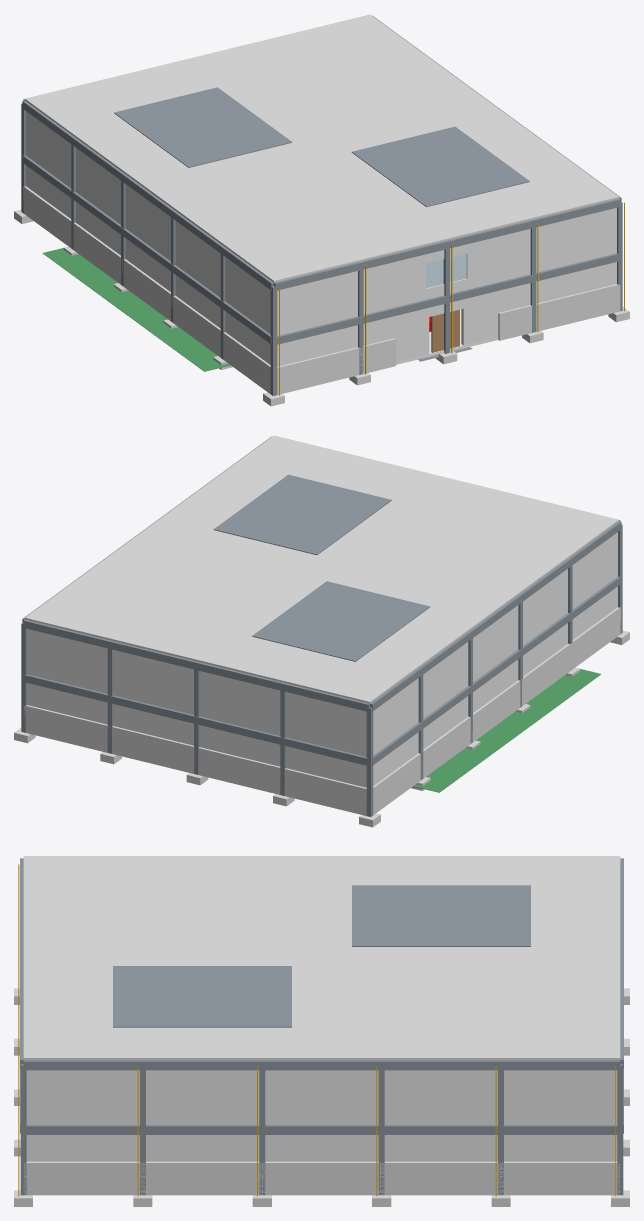
Rendered from generated_building_32.glb.
3 views of the same model, one above another, from view 1: azimuth 30°, elevation 25°; view 2: azimuth 150°, elevation 25°; view 3: azimuth 270°, elevation 25° (orthographic). The views are drawn at different scales.
Parts seen in each view (by area): view 1: architectural, structural, landscape, windows, electrical, doors; view 2: architectural, landscape, structural; view 3: architectural, structural, landscape, electrical.
Boxes of the visible parts, x1,y1,x2,y2 form: architectural: (25, 14, 618, 366); structural: (14, 15, 629, 406); landscape: (22, 186, 620, 394); windows: (426, 254, 466, 288); electrical: (279, 202, 624, 395); doors: (431, 309, 459, 352); architectural: (25, 435, 618, 787); landscape: (23, 607, 621, 815); structural: (14, 436, 629, 827); architectural: (23, 856, 620, 1161); structural: (14, 858, 629, 1206); landscape: (23, 1161, 620, 1195); electrical: (18, 864, 615, 1196).
Bounding box in the file's own units: 21.9 × 6.74 × 25.8.
